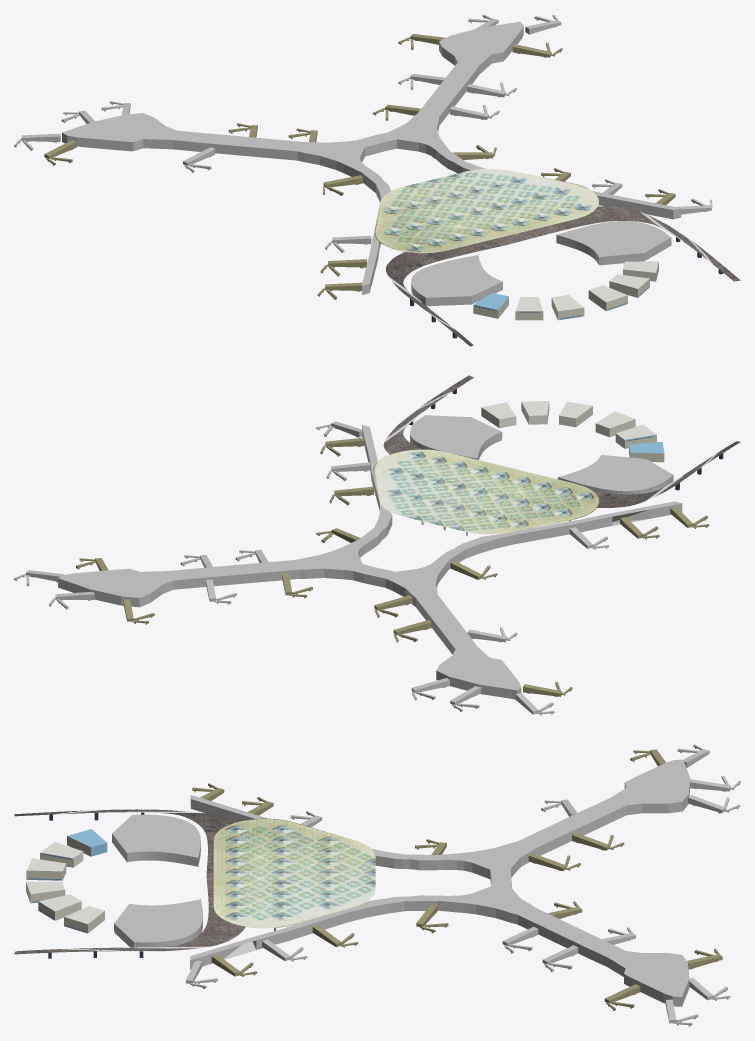
Rendered from T2TerminalWithTexture.obj.
The picture shows the model from 3 angles, top to bottom: view 1: azimuth 30°, elevation 25°; view 2: azimuth 150°, elevation 25°; view 3: azimuth 270°, elevation 25°; orthographic projection. The views are drawn at different scales.
Visible parts, largest first — view 1: Cube.000, object_28, Cylinder.003_Cylinder.016, Plane.001, Plane, Cube_Cube.001, Cube.001_Cube.002, Cube.005_Cube.006, Cube.003_Cube.004, Cube.004_Cube.005, Cube.002_Cube.003; view 2: Cube.000, object_28, Plane, Plane.001, Cylinder.003_Cylinder.016, Cube.003_Cube.004, Cube.002_Cube.003, Cube.004_Cube.005, Cube_Cube.001, Cube.005_Cube.006, Cube.001_Cube.002; view 3: Cube.000, object_28, Plane, Cylinder.003_Cylinder.016, Plane.001, Cube.001_Cube.002, Cube.003_Cube.004, Cube.002_Cube.003, Cube.005_Cube.006, Cube.004_Cube.005, Cube_Cube.001.
Boxes of the visible parts, x1,y1,x2,y2 form: Cube.000: (62, 21, 681, 294); object_28: (374, 169, 598, 253); Cylinder.003_Cylinder.016: (386, 206, 740, 346); Plane.001: (556, 221, 671, 265); Plane: (411, 255, 502, 306); Cube_Cube.001: (588, 285, 627, 311); Cube.001_Cube.002: (609, 274, 649, 297); Cube.005_Cube.006: (473, 293, 508, 318); Cube.003_Cube.004: (551, 295, 584, 320); Cube.004_Cube.005: (515, 297, 543, 320); Cube.002_Cube.003: (623, 261, 658, 281); Cube.000: (58, 425, 682, 699); object_28: (373, 449, 599, 534); Plane: (557, 455, 673, 494); Plane.001: (410, 415, 502, 459); Cylinder.003_Cylinder.016: (383, 375, 740, 507); Cube.003_Cube.004: (595, 411, 635, 437); Cube.002_Cube.003: (481, 402, 516, 428); Cube.004_Cube.005: (615, 424, 656, 448); Cube_Cube.001: (559, 401, 592, 427); Cube.005_Cube.006: (629, 441, 664, 462); Cube.001_Cube.002: (521, 401, 549, 424); Cube.000: (190, 759, 690, 1006); object_28: (213, 818, 375, 928); Plane: (112, 814, 200, 866); Cylinder.003_Cylinder.016: (14, 809, 245, 954); Plane.001: (114, 899, 202, 947); Cube.001_Cube.002: (38, 894, 81, 920); Cube.003_Cube.004: (26, 858, 66, 880); Cube.002_Cube.003: (64, 906, 104, 933); Cube.005_Cube.006: (67, 829, 107, 856); Cube.004_Cube.005: (40, 842, 83, 867); Cube_Cube.001: (26, 881, 65, 903).
Bounding box in the file's own units: 1664 × 43.07 × 1831.
